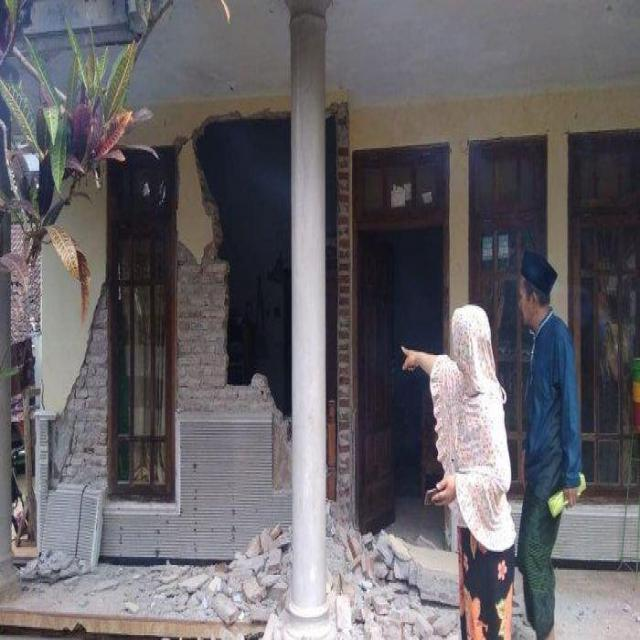damage: (195, 521, 430, 640), (152, 238, 271, 438), (39, 264, 118, 488), (174, 99, 284, 225), (13, 532, 129, 624)
